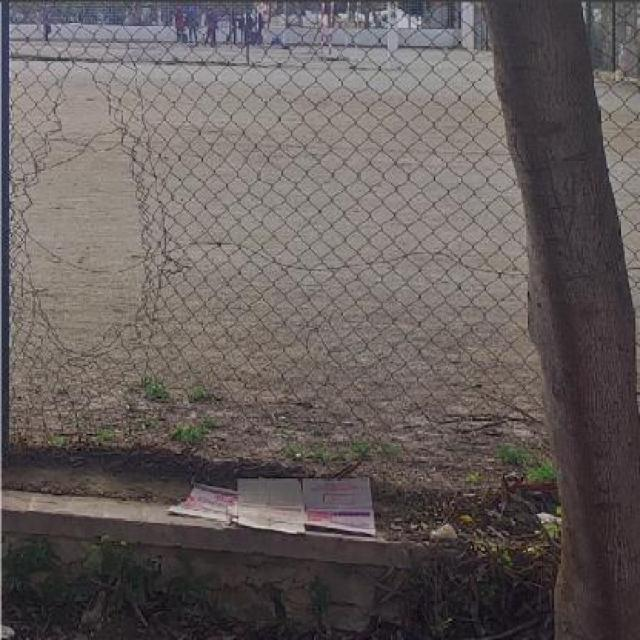fence line: (19, 80, 170, 358)
